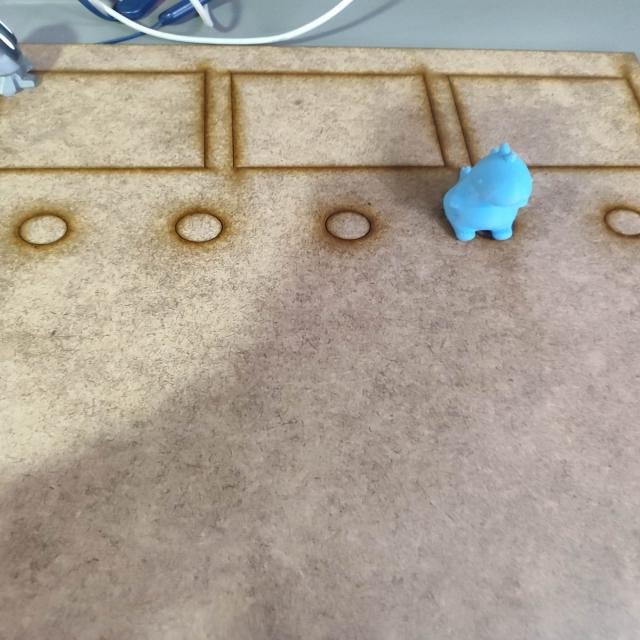DINO: (428, 132, 540, 253)
